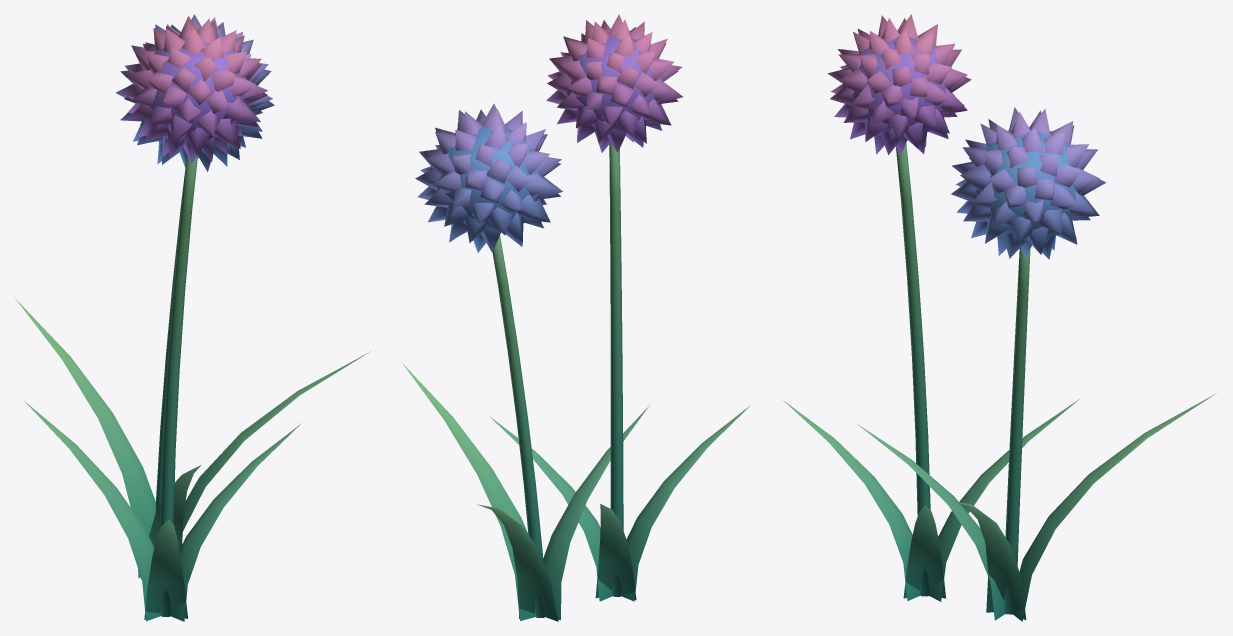
File: verdant_flower_pompom.glb
The picture shows the model from 3 angles, left to right: view 1: azimuth 30°, elevation 25°; view 2: azimuth 150°, elevation 25°; view 3: azimuth 270°, elevation 25°; orthographic projection. The views are drawn at different scales.
Parts seen in each view (by area): view 1: verdant_flower_pompom; view 2: verdant_flower_pompom; view 3: verdant_flower_pompom.
Boxes of the visible parts, x1=… form: verdant_flower_pompom: x1=14, y1=14, x2=370, y2=621; verdant_flower_pompom: x1=402, y1=14, x2=750, y2=621; verdant_flower_pompom: x1=782, y1=14, x2=1215, y2=621.
Size of the model in its own units: 0.6162 by 1.22 by 0.8318.
